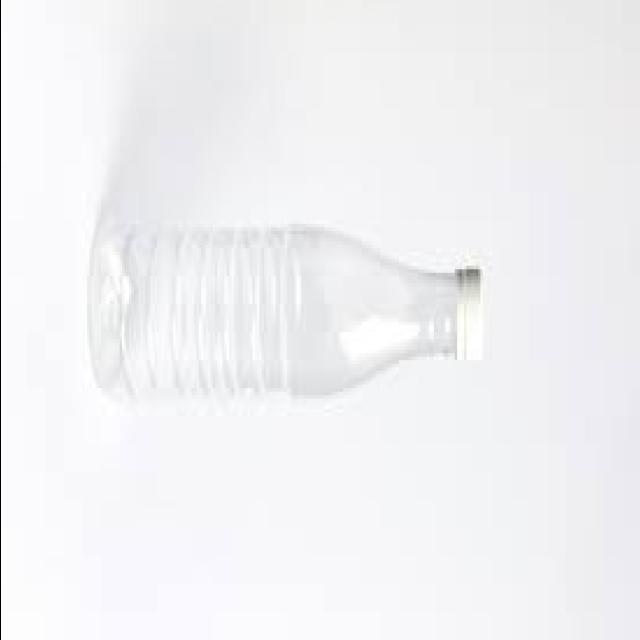plastic cup: (89, 214, 481, 398)
